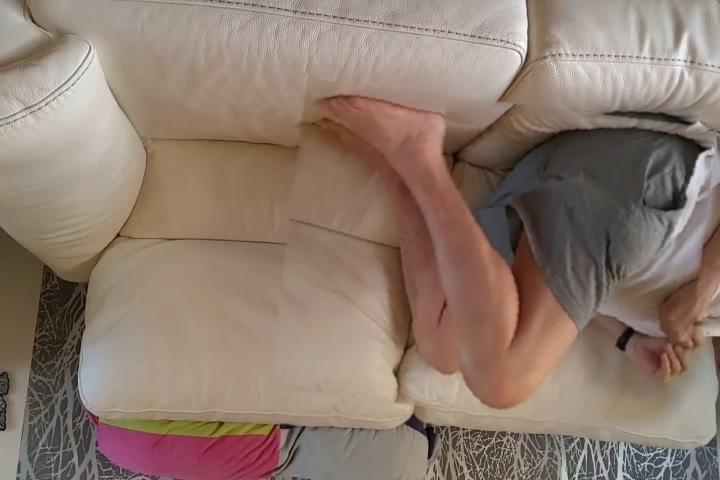lowerbody: (279, 91, 709, 427)
